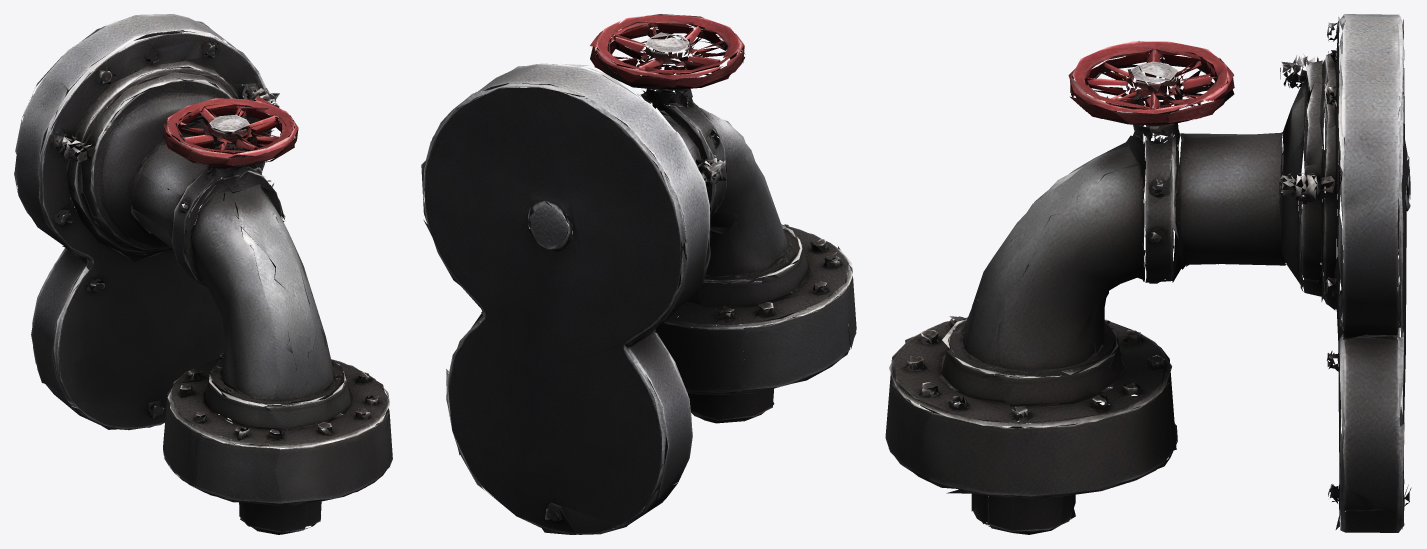
File: pipe_valve.glb
3 views of the same model, side by side, from view 1: azimuth 30°, elevation 25°; view 2: azimuth 150°, elevation 25°; view 3: azimuth 270°, elevation 25° (orthographic). The views are drawn at different scales.
Visible parts, largest first — view 1: pipe_valve; view 2: pipe_valve; view 3: pipe_valve.
Boxes of the visible parts, x1=… form: pipe_valve: x1=14, y1=14, x2=392, y2=534; pipe_valve: x1=421, y1=14, x2=856, y2=534; pipe_valve: x1=885, y1=14, x2=1411, y2=534.
Size of the model in its own units: 0.8045 by 1.3 by 1.26.
Materials: 1 (1 with a texture image).
